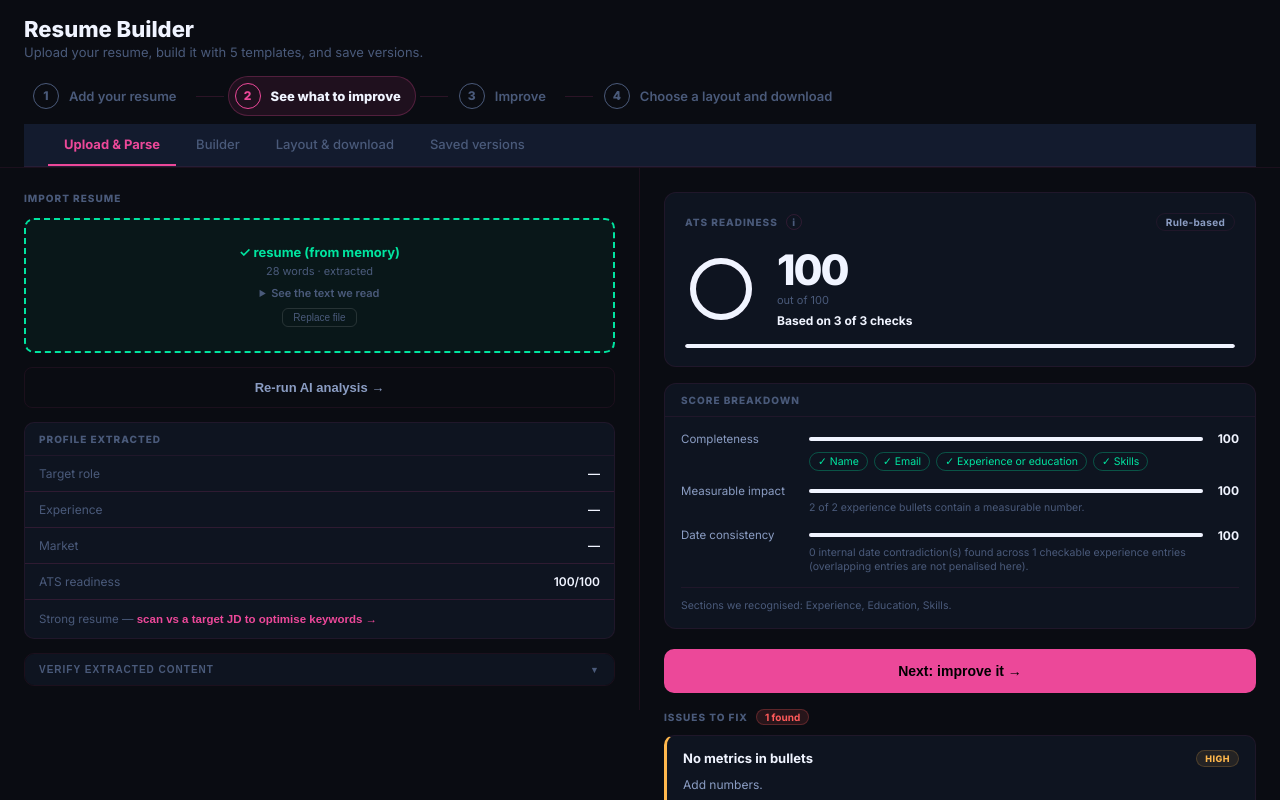
Scenario: the Builder and the template › still offers the downloads
The width and height of the screenshot is (1280, 800).
Click the button "Builder".
click(218, 145)  # box [180, 124, 256, 166]
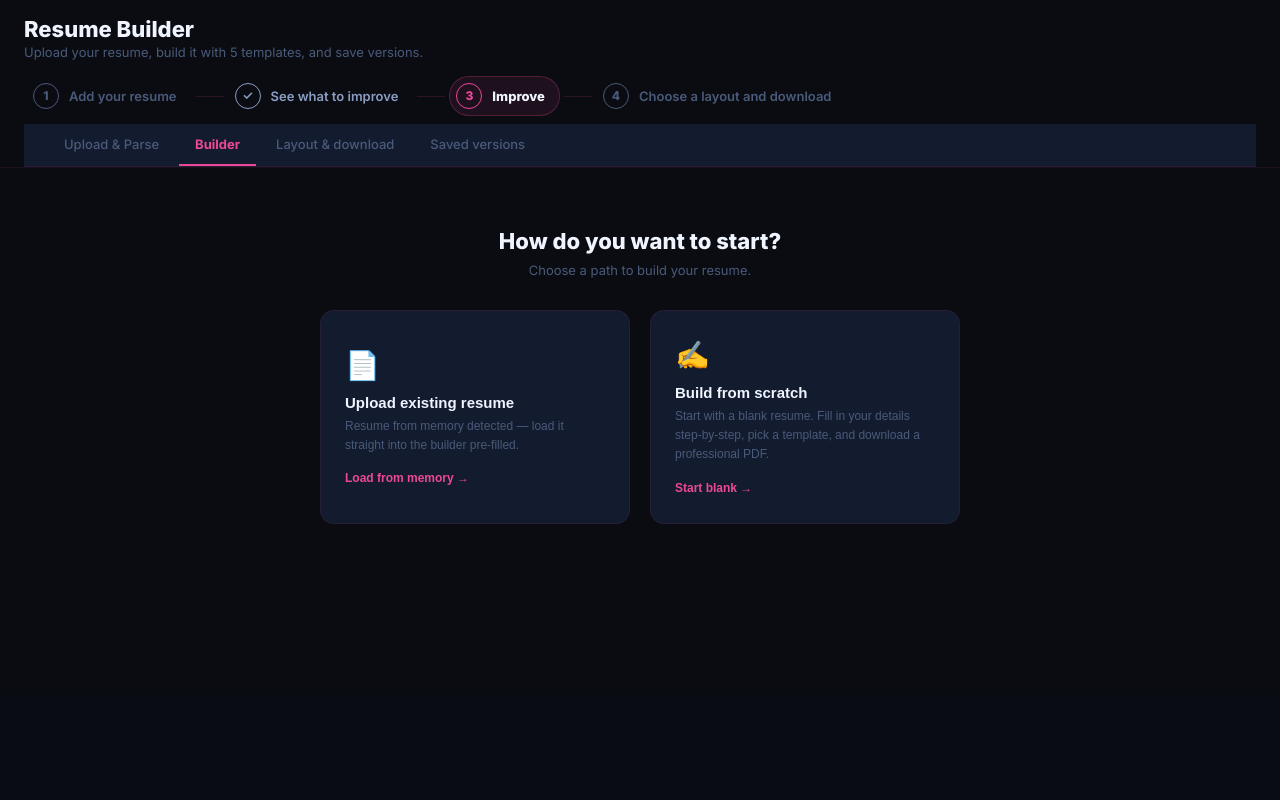
Click the text "Load from memory →".
click(407, 478)  # box [345, 471, 469, 485]
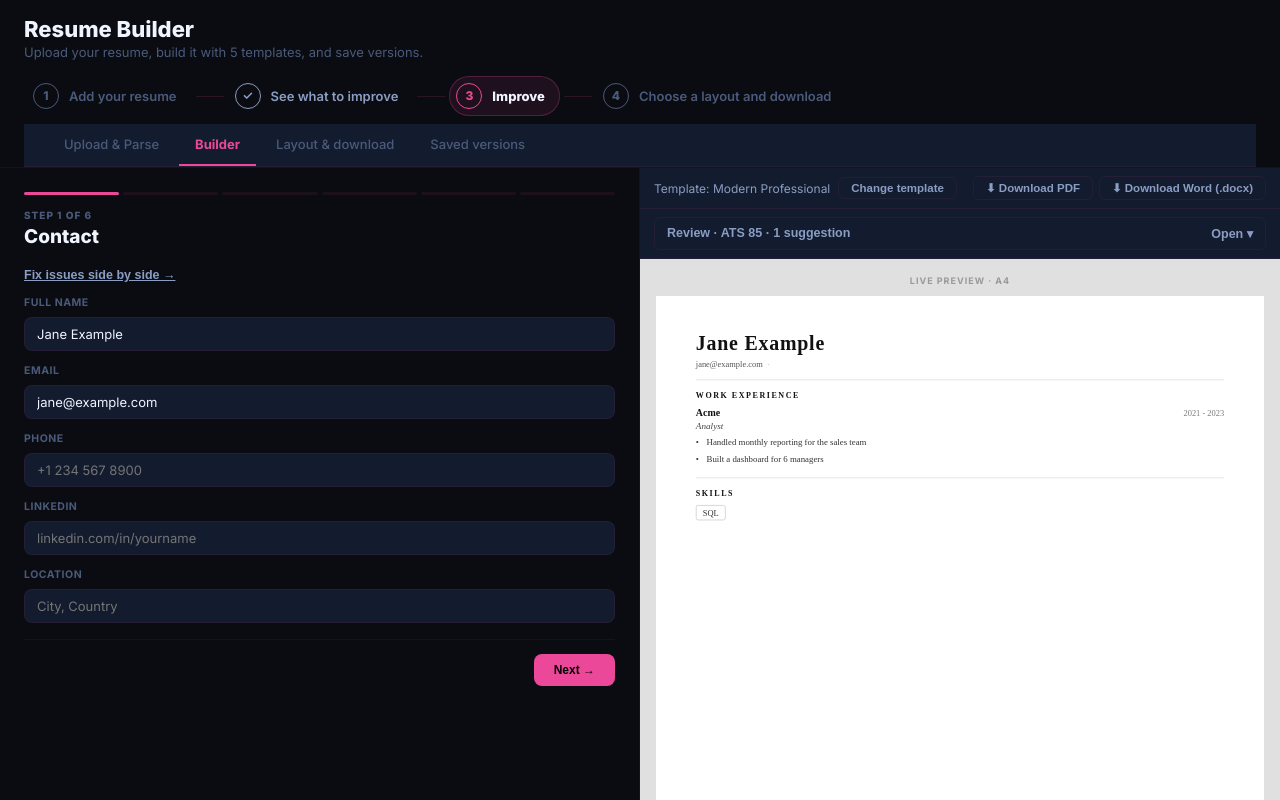
Expected: the button "⬇ Download PDF" is shown, [973, 176, 1093, 200]
